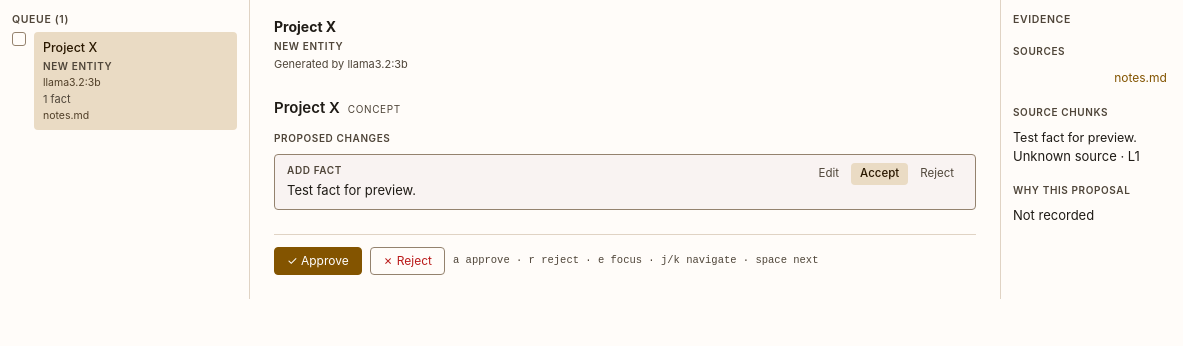
Test: approve is disabled when every item is rejected
The image size is (1183, 346).
Click the button "Reject".
click(937, 174)  # box [911,163,963,185]
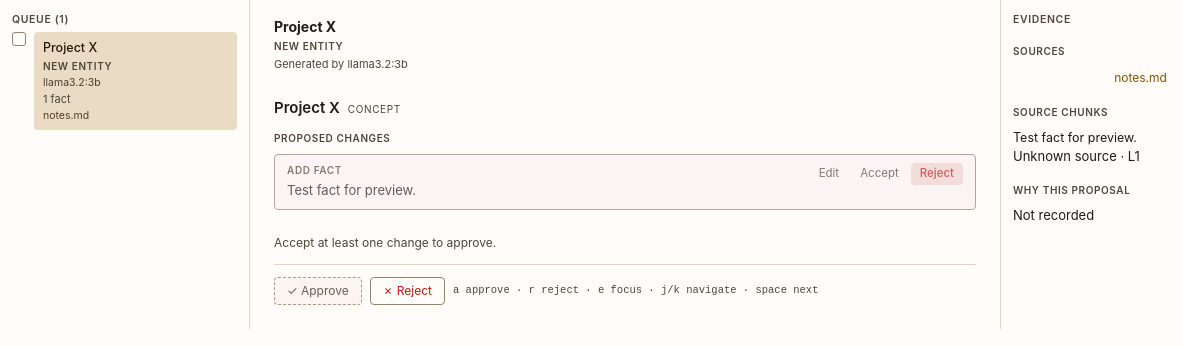
Expected: the button "✓ Approve" is disabled, [274,276,362,304]
Expected: the text "Accept at least one change to approve." is shown, [274,234,496,250]
